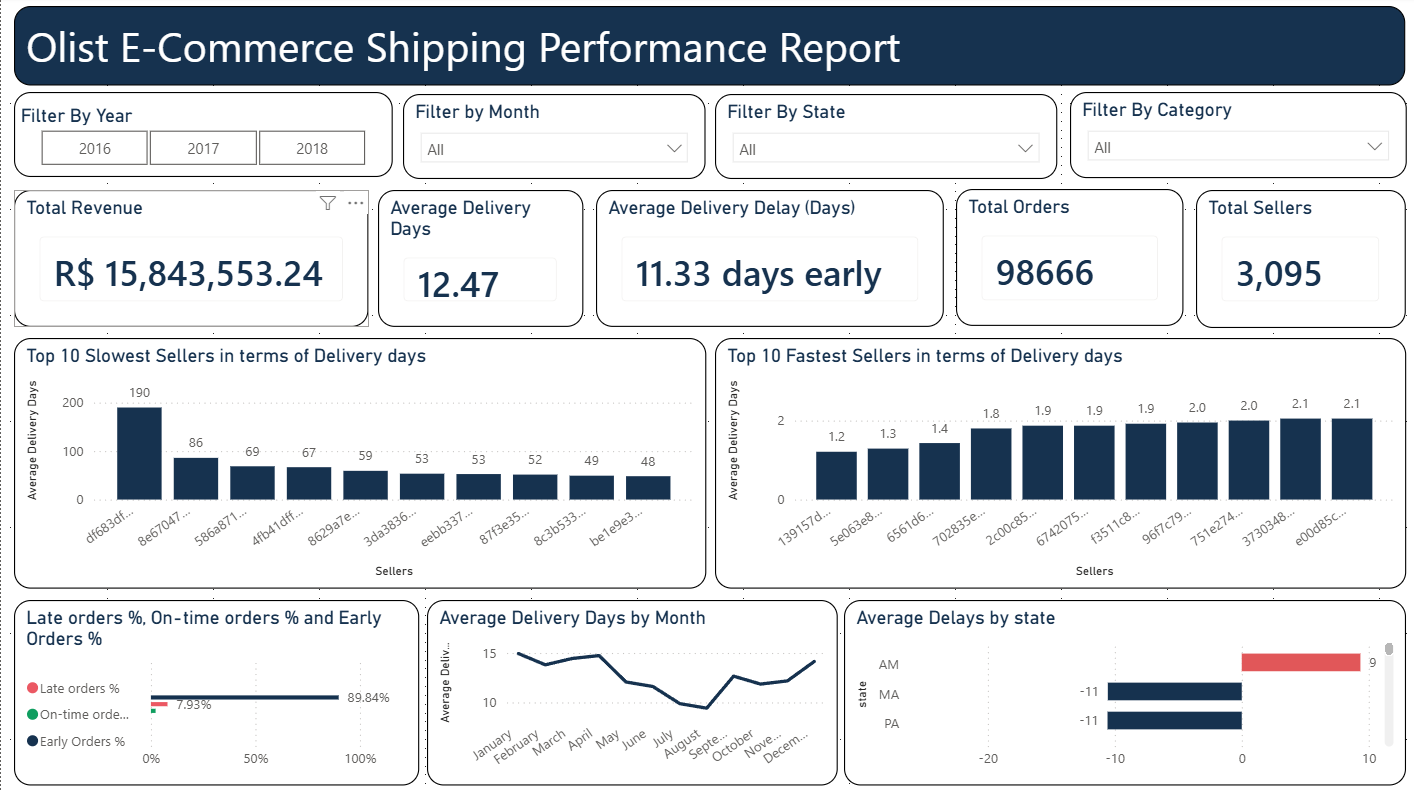

Layout of this report page (visuals, bound fields, positions):
{"tool":"powerbi","page":{"name":"Shipping Analysis","canvas":[1280,720],"ordinal":0},"visuals":[{"type":"cardVisual","title":"Total Revenue","fields":{"Data":["olist_mod vw_sales_analysis.Total price"]},"box":[11.8,174.8,297.1,124.1],"z":0},{"type":"columnChart","title":"Top 10 Slowest Sellers in terms of Delivery days","fields":{"Category":["olist_mod dim_seller.seller_id"],"Y":["olist_mod vw_sales_analysis.Average Delivery Days"]},"box":[11.8,311.5,627.6,217.4],"z":1000},{"type":"cardVisual","title":"Average Delivery Days","fields":{"Data":["olist_mod vw_sales_analysis.Average Delivery Days"]},"box":[319.7,174.8,229.1,124.1],"z":2000},{"type":"columnChart","title":"Top 10 Fastest Sellers in terms of Delivery days","fields":{"Category":["olist_mod dim_seller.seller_id"],"Y":["olist_mod vw_sales_analysis.Average Delivery Days"]},"box":[647.5,311.5,618.6,217.4],"z":3000},{"type":"slicer","fields":{"Values":["olist_mod vw_sales_analysis.delivered_customer_date.Variation.Date Hierarchy.Year"]},"box":[10.9,87.8,343.2,77],"z":4000},{"type":"slicer","fields":{"Values":["olist_mod vw_sales_analysis.delivered_customer_date.Variation.Date Hierarchy.Month"]},"box":[364.1,87.8,274.4,77],"z":5000},{"type":"slicer","fields":{"Values":["olist_mod dim_seller.state"]},"box":[646.6,87.8,309.7,77],"z":6000},{"type":"slicer","fields":{"Values":["olist_mod dim_product.category_name_english"]},"box":[967.2,86,298,78.8],"z":7000},{"type":"cardVisual","title":"Average Delivery Delay (Days)","fields":{"Data":["olist_mod vw_sales_analysis.Average Delays"]},"box":[560.6,174.8,250.9,124.1],"z":8000},{"type":"cardVisual","title":"Total Orders","fields":{"Data":["olist_mod vw_sales_analysis.Orders"]},"box":[825.1,174.8,203.8,124.1],"z":9000},{"type":"cardVisual","title":"Total Sellers","fields":{"Data":["olist_mod dim_seller.Sellers"]},"box":[1038.8,174.8,226.4,124.1],"z":10000},{"type":"pieChart","fields":{"Y":["olist_mod vw_sales_analysis.On-Time Orders","olist_mod vw_sales_analysis.Late Orders","olist_mod vw_sales_analysis.Early Orders"]},"box":[12.1,539.6,627.5,167.7],"z":11000},{"type":"lineChart","fields":{"Category":["olist_mod dim_date.date.Variation.Date Hierarchy.Year","olist_mod dim_date.date.Variation.Date Hierarchy.Quarter","olist_mod dim_date.date.Variation.Date Hierarchy.Month","olist_mod dim_date.date.Variation.Date Hierarchy.Day"],"Y":["olist_mod vw_sales_analysis.Average Delivery Days"]},"box":[647.7,539.6,618.4,167.7],"z":12000},{"type":"textbox","box":[11.8,7.2,1253.4,72.5],"z":13000}]}

Visuals, with their boxes in screenshot pixels (x1, y1, x2, y2), scaled from the page's 1280x720 canvas onto the 1414x791 screenshot:
"Total Revenue" cardVisual: region(13, 192, 341, 328)
"Top 10 Slowest Sellers in terms of Delivery days" columnChart: region(13, 342, 706, 581)
"Average Delivery Days" cardVisual: region(353, 192, 606, 328)
"Top 10 Fastest Sellers in terms of Delivery days" columnChart: region(715, 342, 1399, 581)
slicer - olist_mod vw_sales_analysis.delivered_customer_date.Variation.Date Hierarchy.Year: region(12, 96, 391, 181)
slicer - olist_mod vw_sales_analysis.delivered_customer_date.Variation.Date Hierarchy.Month: region(402, 96, 705, 181)
slicer - olist_mod dim_seller.state: region(714, 96, 1056, 181)
slicer - olist_mod dim_product.category_name_english: region(1068, 94, 1398, 181)
"Average Delivery Delay (Days)" cardVisual: region(619, 192, 896, 328)
"Total Orders" cardVisual: region(911, 192, 1137, 328)
"Total Sellers" cardVisual: region(1148, 192, 1398, 328)
pieChart - olist_mod vw_sales_analysis.On-Time Orders x olist_mod vw_sales_analysis.Late Orders: region(13, 593, 707, 777)
lineChart - olist_mod dim_date.date.Variation.Date Hierarchy.Year x olist_mod dim_date.date.Variation.Date Hierarchy.Quarter: region(716, 593, 1399, 777)
textbox: region(13, 8, 1398, 88)
